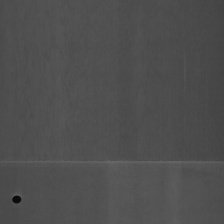welding_line: (1, 155, 224, 168), (10, 189, 22, 205)
